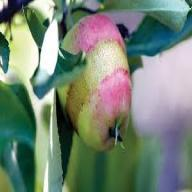apple: (58, 27, 132, 152)
